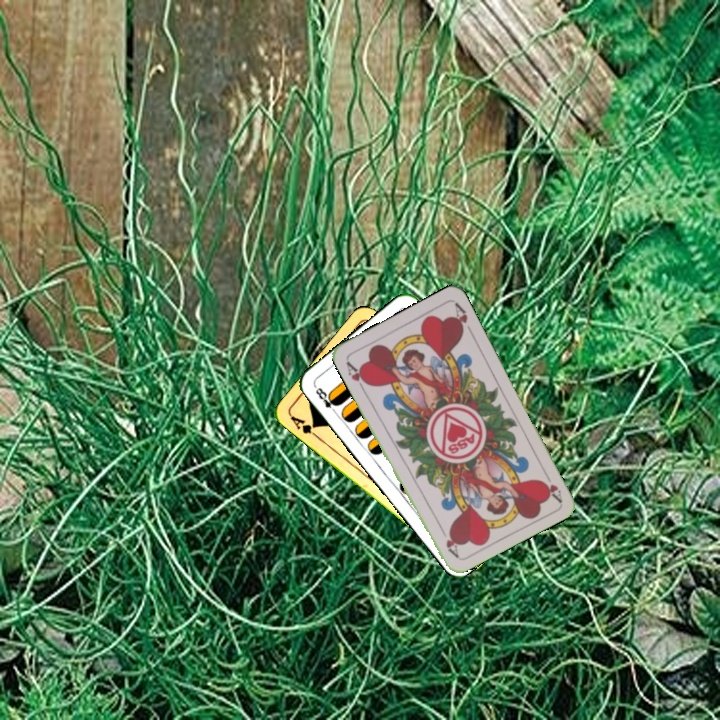E8: (311, 382, 341, 417)
GA: (286, 411, 322, 441)
HA: (342, 357, 372, 394), (537, 466, 564, 504)
